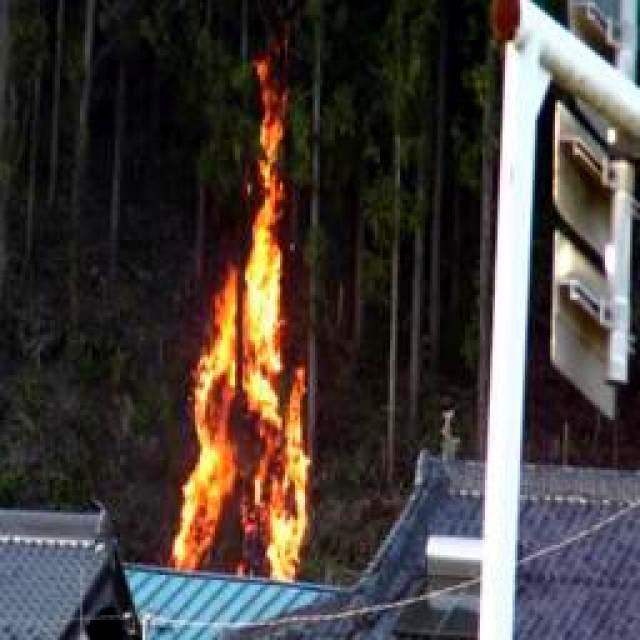fire: (171, 82, 319, 586)
